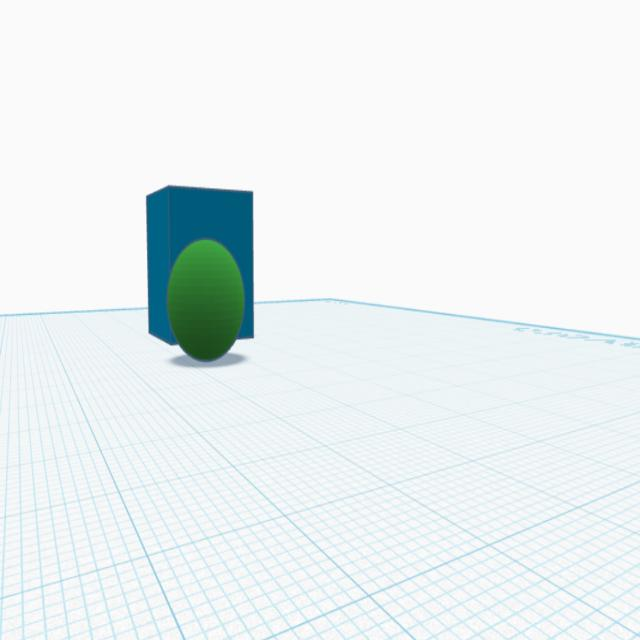sphere: (165, 235, 248, 368)
